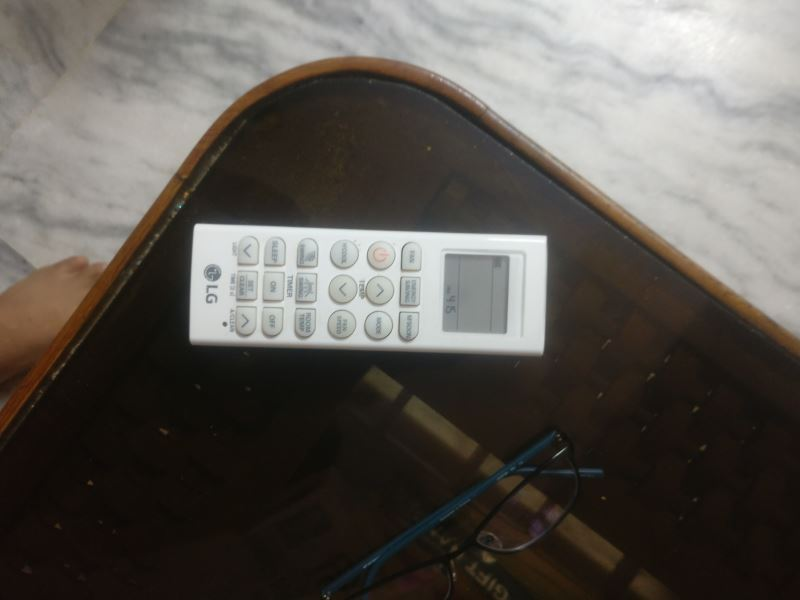ac remote: (190, 218, 551, 358)
